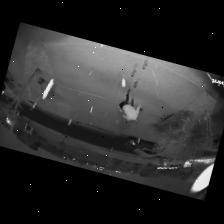person: (118, 88, 140, 122)
